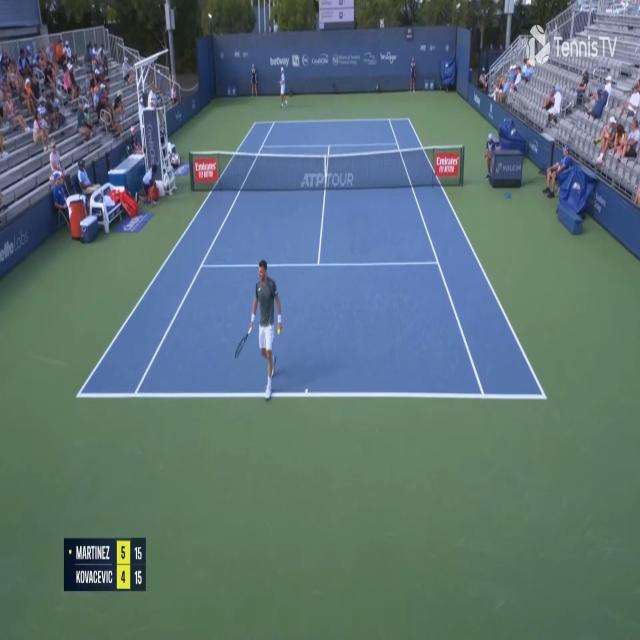tennis-player: (234, 254, 283, 403), (277, 63, 290, 108)
